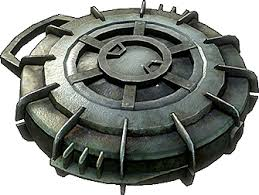car: (2, 0, 259, 195)
